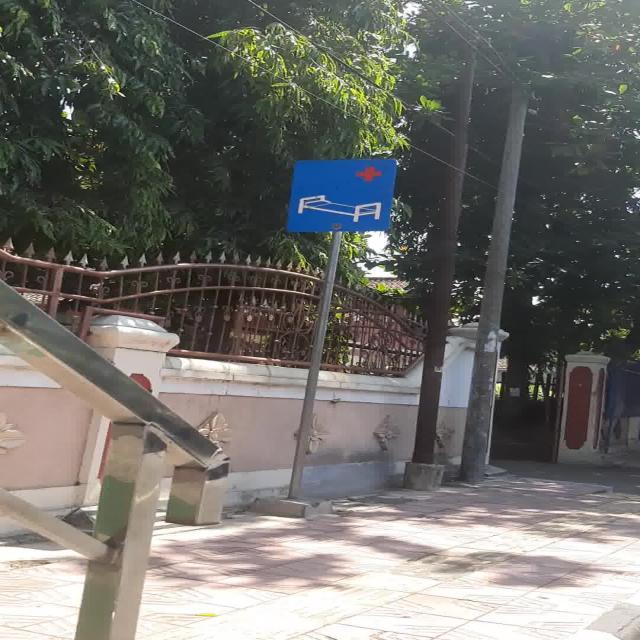Rumah Sakit: (285, 160, 395, 232)
